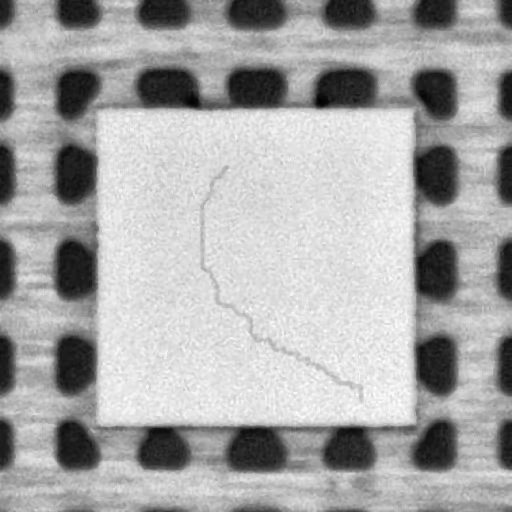DIE_CRACK: (195, 162, 362, 392)
